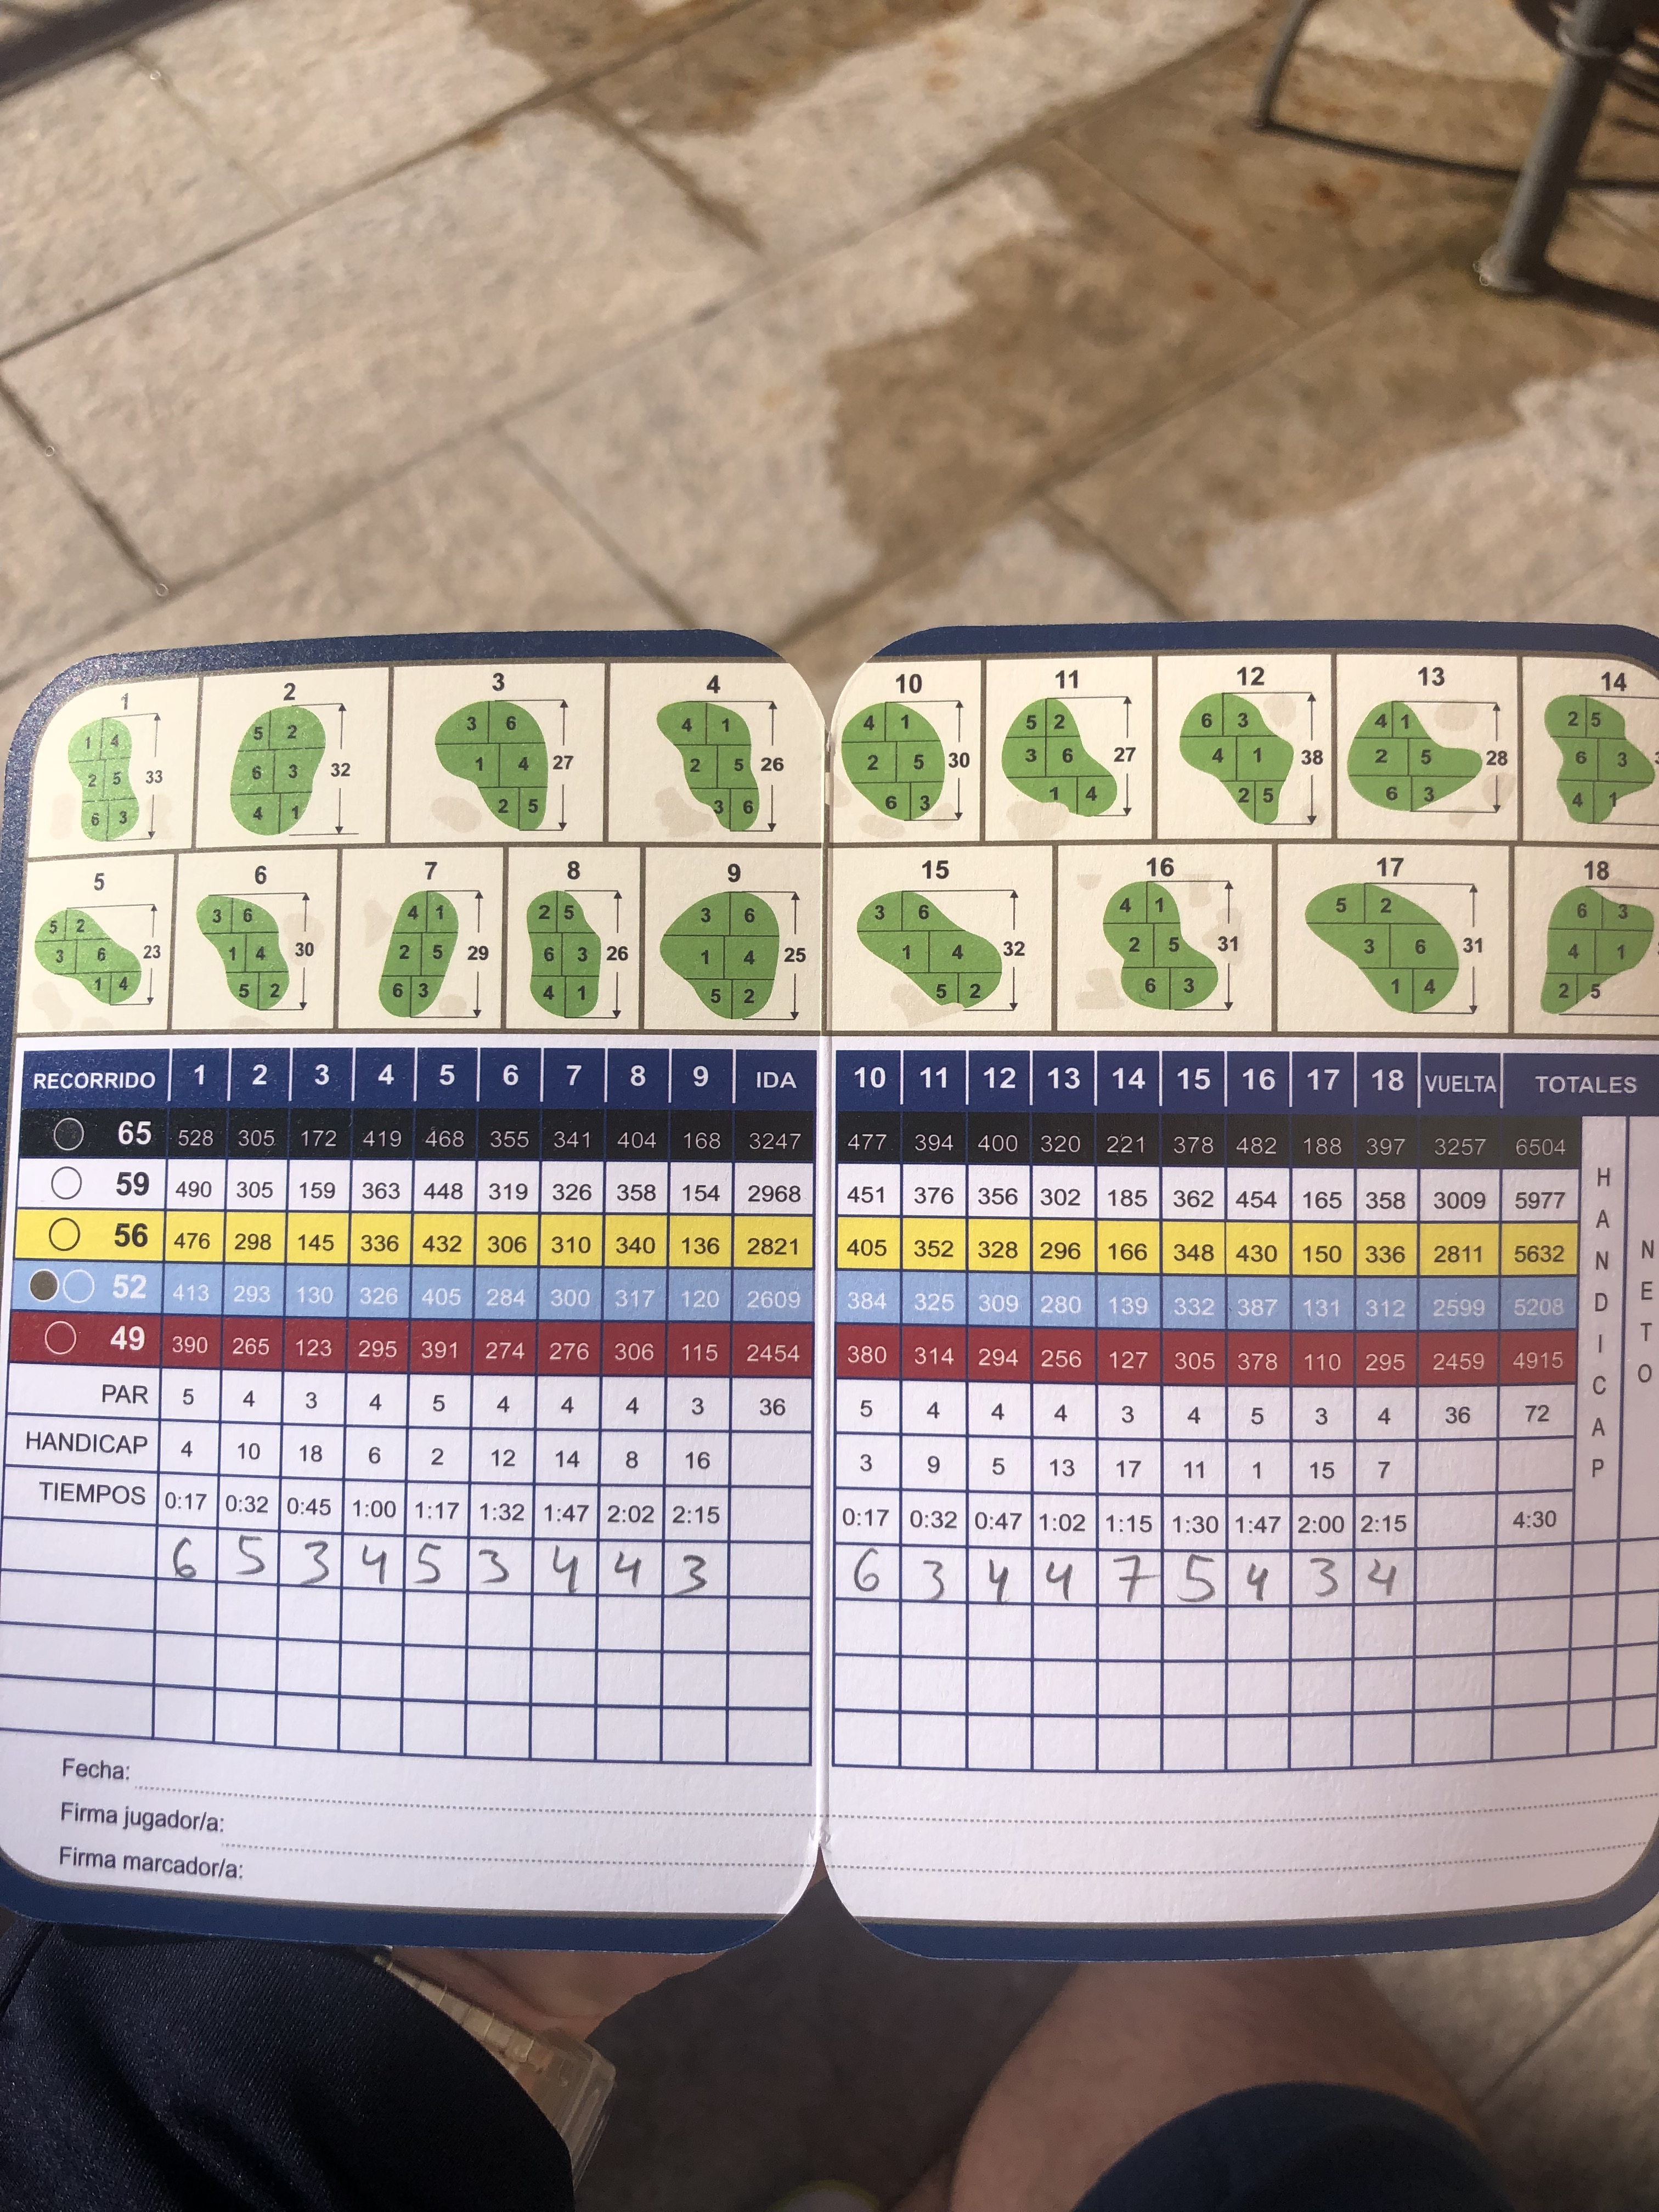par: (91, 1364, 1565, 1430)
score: (166, 1531, 1408, 1609)
